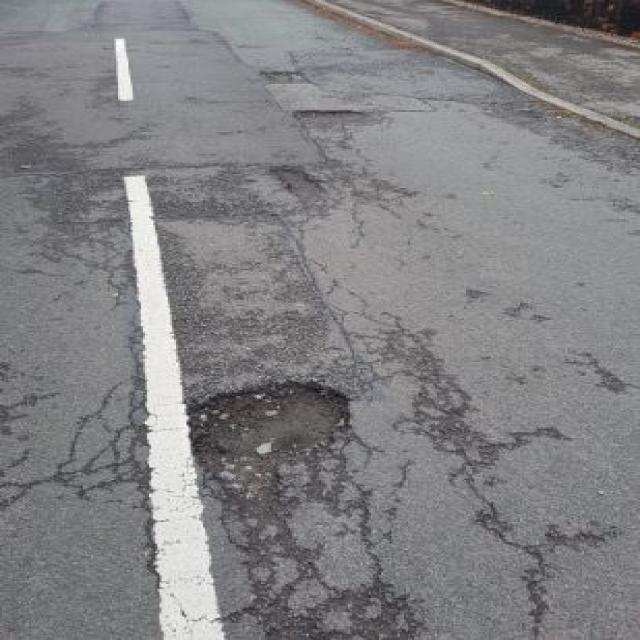Pothole: (169, 374, 364, 479)
